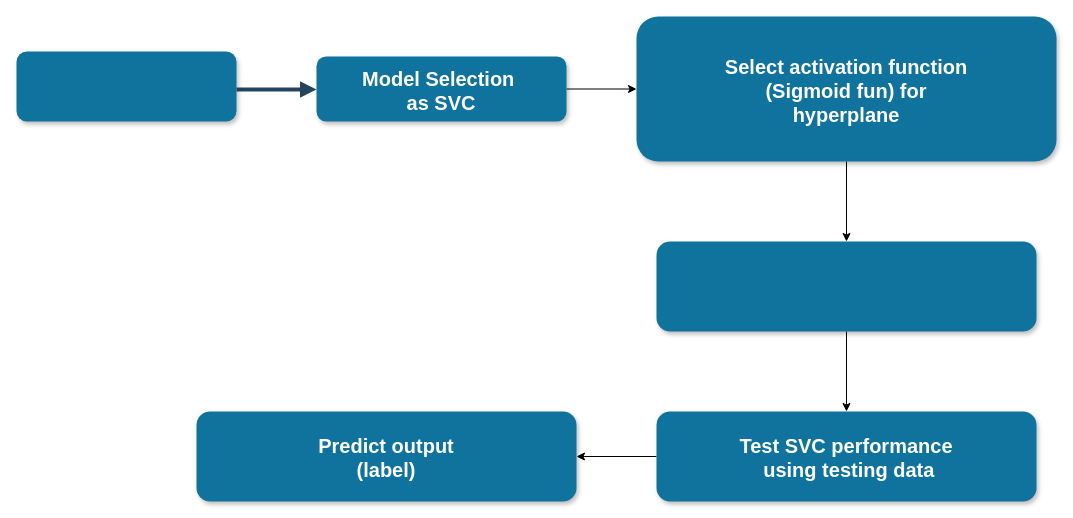
The diagram is 1073 pixels wide and 518 high, and some of its shapes have lost their labels. Each missing label, with the centre of its shape:
"Taking Preprocessed data" belongs at point (127, 87).
"Train SVC using training data" belongs at point (847, 287).
